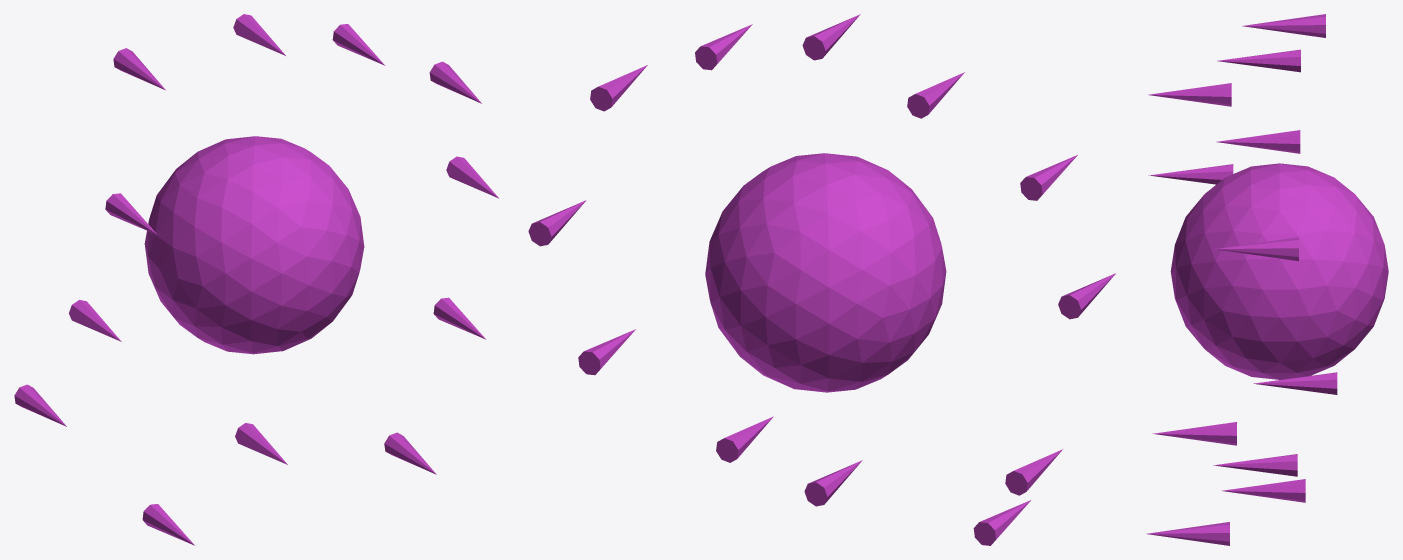
Rendered from tech_137.glb.
The picture shows the model from 3 angles, left to right: view 1: azimuth 30°, elevation 25°; view 2: azimuth 150°, elevation 25°; view 3: azimuth 270°, elevation 25°; orthographic projection. The views are drawn at different scales.
Parts seen in each view (by area): view 1: world; view 2: world; view 3: world.
Part boxes in pixels (left/top/right/bottom): world: left=14, top=14, right=498, bottom=545; world: left=528, top=14, right=1115, bottom=545; world: left=1146, top=14, right=1388, bottom=545.
Bounding box in the file's own units: 2.15 × 2.07 × 1.01.
